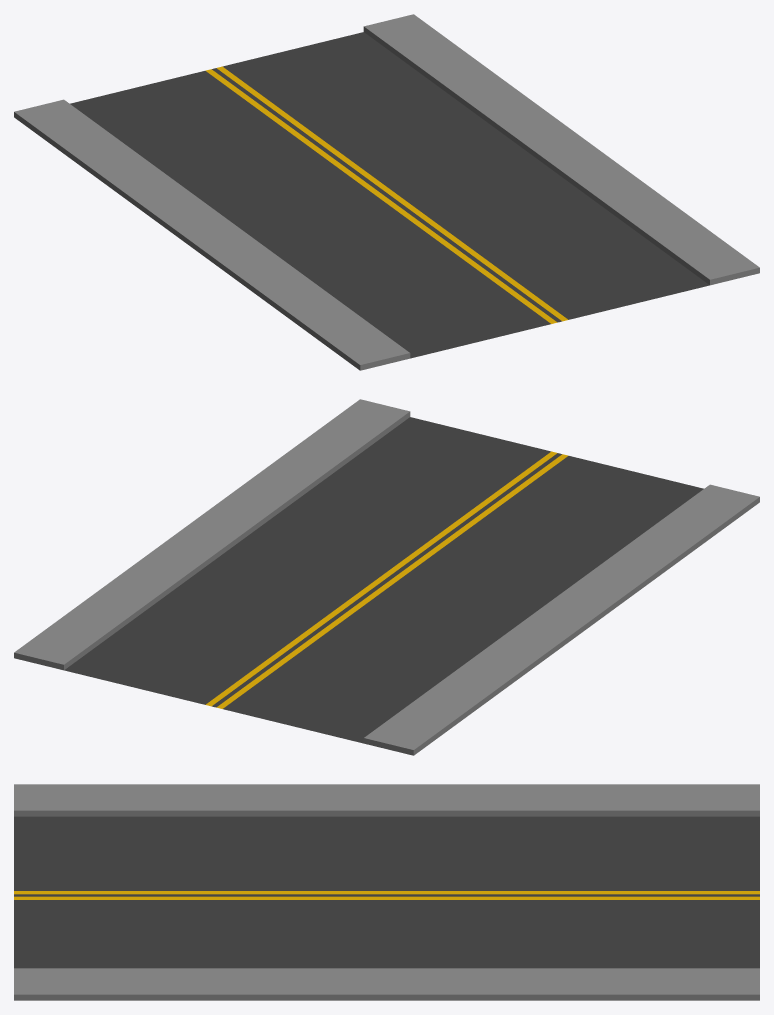
File: StraightRoadFullLine.glb
3 views of the same model, one above another, from view 1: azimuth 30°, elevation 25°; view 2: azimuth 150°, elevation 25°; view 3: azimuth 270°, elevation 25° (orthographic). The views are drawn at different scales.
Visible parts, largest first — view 1: StraightRoadFullLine-col; view 2: StraightRoadFullLine-col; view 3: StraightRoadFullLine-col.
Part boxes in pixels (box(x1,y1,x2,y2)): StraightRoadFullLine-col: box(14, 14, 759, 370); StraightRoadFullLine-col: box(14, 399, 759, 755); StraightRoadFullLine-col: box(14, 784, 759, 1000).
Bounding box in the file's own units: 1.33 × 0.0179 × 2.
